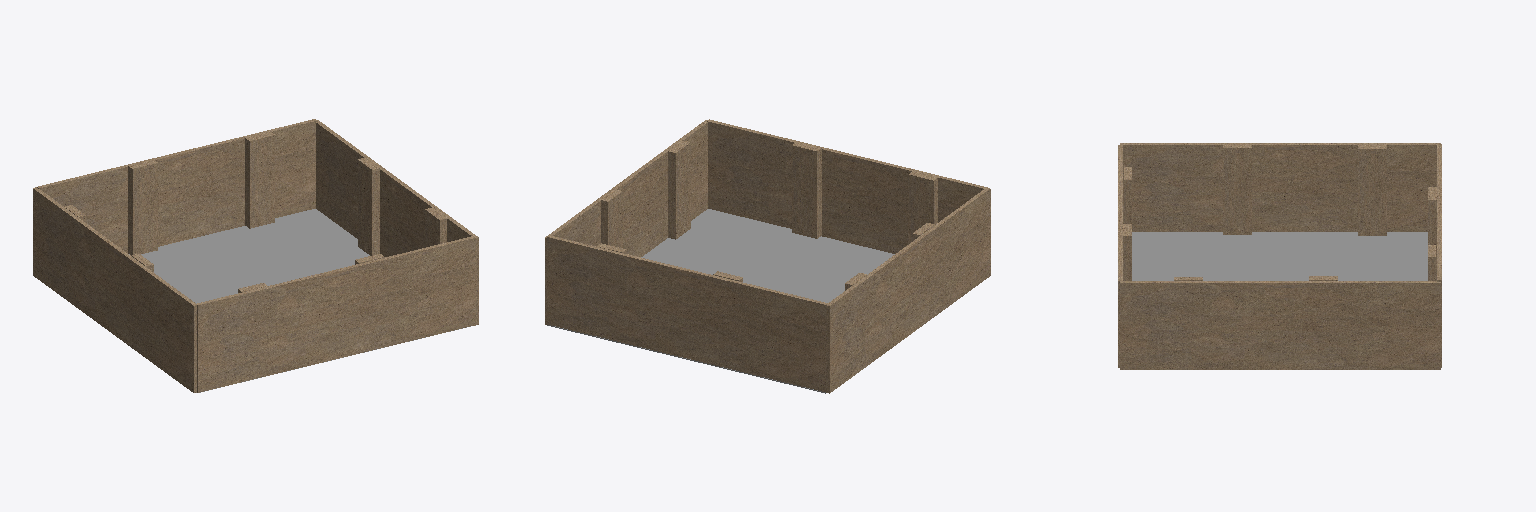
The picture shows the model from 3 angles: view 1: azimuth 30°, elevation 25°; view 2: azimuth 150°, elevation 25°; view 3: azimuth 270°, elevation 25°; orthographic projection.
Parts seen in each view (by area): view 1: Cube.004_Cube.006, Cube.003, Cube.001_Cube.004, Cube, Cube.002_Cube.005; view 2: Cube.003, Cube.004_Cube.006, Cube.001_Cube.004, Cube, Cube.002_Cube.005; view 3: Cube.002_Cube.005, Cube.001_Cube.004, Cube, Cube.004_Cube.006, Cube.003.
Boxes of the visible parts, x1,y1,x2,y2 form: Cube.004_Cube.006: [197, 236, 475, 392]; Cube.003: [37, 119, 317, 255]; Cube.001_Cube.004: [33, 187, 196, 392]; Cube: [129, 209, 470, 392]; Cube.002_Cube.005: [316, 120, 478, 325]; Cube.003: [547, 235, 827, 391]; Cube.004_Cube.006: [707, 119, 987, 253]; Cube.001_Cube.004: [826, 188, 990, 393]; Cube: [547, 209, 894, 393]; Cube.002_Cube.005: [545, 120, 707, 324]; Cube.002_Cube.005: [1120, 276, 1440, 369]; Cube.001_Cube.004: [1120, 143, 1440, 235]; Cube: [1132, 232, 1427, 280]; Cube.004_Cube.006: [1118, 145, 1131, 367]; Cube.003: [1428, 144, 1441, 367].
Bounding box in the file's own units: 62.32 × 18.72 × 61.22.
Materials: 2 (1 with a texture image).